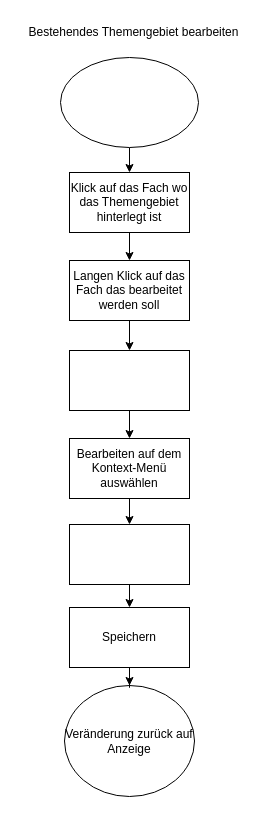
The diagram is 267 pixels wide and 814 high, and some of its shapes have lost their labels. The centre of each missing label's shape, as x and y in pixels:
"Klick auf den Lernen- Button auf der Navbar" belongs at point 129,102.
"Kontext-Menü öffnet sich" belongs at point 129,380.
"Veränderung von Anzeige zu Eingabefeld wechseln" belongs at point 129,554.
